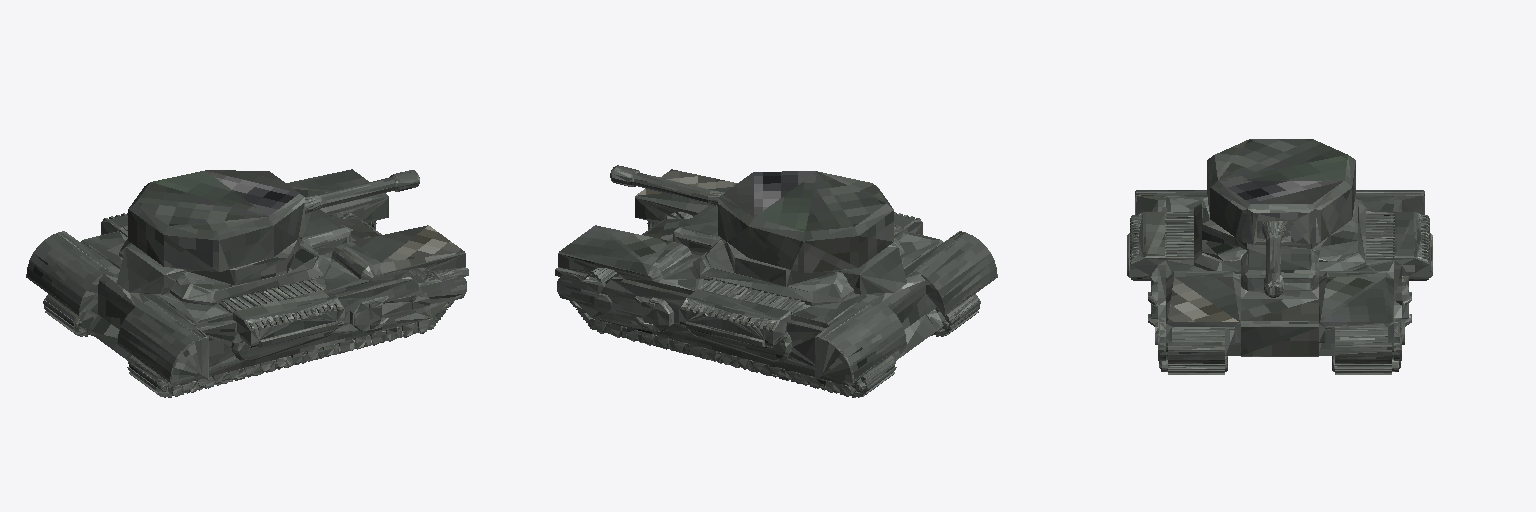
The picture shows the model from 3 angles: view 1: azimuth 30°, elevation 25°; view 2: azimuth 150°, elevation 25°; view 3: azimuth 270°, elevation 25°; orthographic projection.
Visible parts, largest first — view 1: Part1_Untitled; view 2: Part1_Untitled; view 3: Part1_Untitled.
Part boxes in pixels (x1,y1,x2,y2): Part1_Untitled: (26, 169, 468, 397); Part1_Untitled: (555, 165, 997, 397); Part1_Untitled: (1127, 139, 1432, 374).
Size of the model in its own units: 8.52 by 3.43 by 7.13.
Materials: 1 (1 with a texture image).